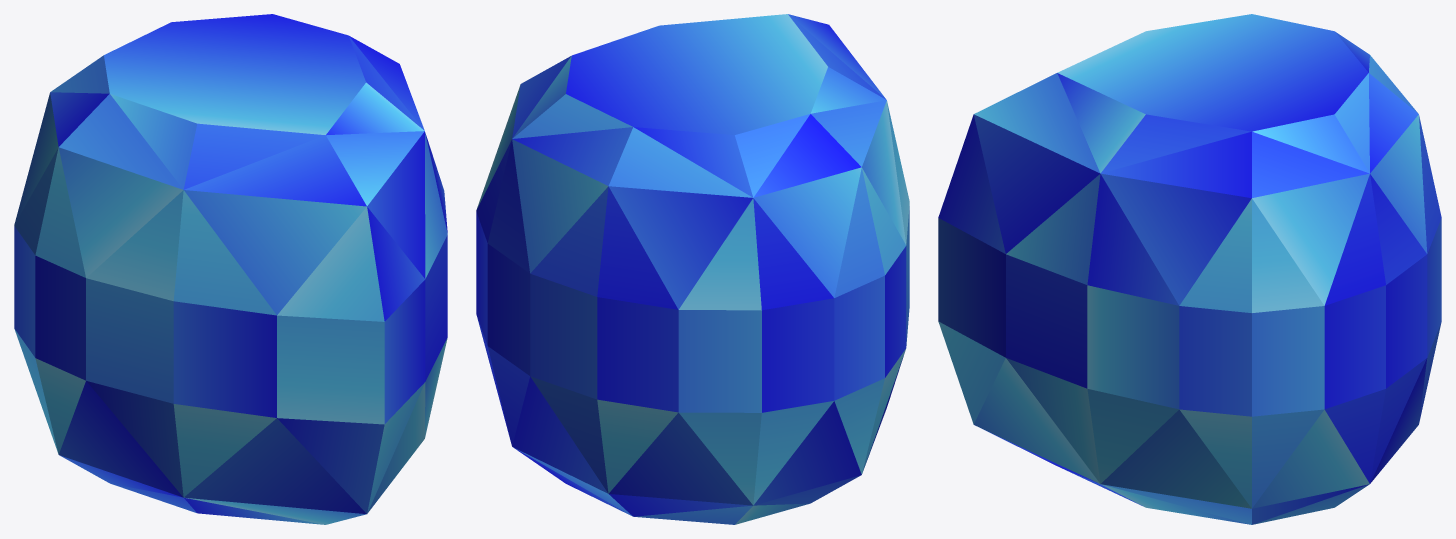
The model's file is osapphire.FBX.
The picture shows the model from 3 angles, left to right: view 1: azimuth 30°, elevation 25°; view 2: azimuth 150°, elevation 25°; view 3: azimuth 270°, elevation 25°; orthographic projection.
Visible parts, largest first — view 1: Jewelry_04; view 2: Jewelry_04; view 3: Jewelry_04.
Boxes of the visible parts, <box> form: Jewelry_04: <box>14,14,447,524</box>; Jewelry_04: <box>476,14,909,524</box>; Jewelry_04: <box>938,14,1441,524</box>.
Bounding box in the file's own units: 6.01 × 6.69 × 5.77.
1 material, 1 textured.
